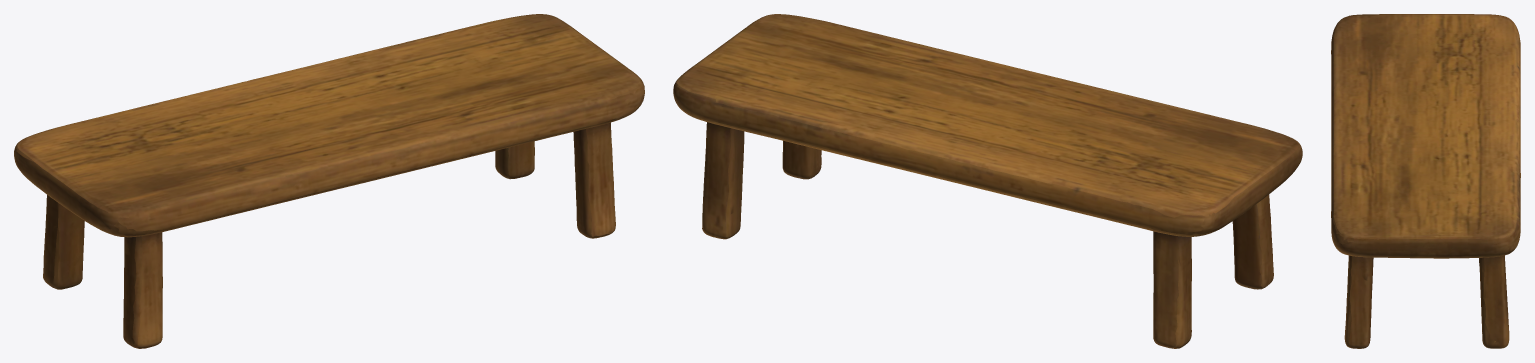
The model's file is S0-07_elm_bench_A.glb.
The picture shows the model from 3 angles, left to right: view 1: azimuth 30°, elevation 25°; view 2: azimuth 150°, elevation 25°; view 3: azimuth 270°, elevation 25°; orthographic projection. The views are drawn at different scales.
Parts seen in each view (by area): view 1: geometry_0; view 2: geometry_0; view 3: geometry_0.
Part boxes in pixels (x1=…): geometry_0: x1=14, y1=14, x2=644, y2=348; geometry_0: x1=673, y1=14, x2=1302, y2=348; geometry_0: x1=1331, y1=14, x2=1520, y2=348.
Bounding box in the file's own units: 1.2 × 0.3121 × 0.4253.
Materials: 1 (1 with a texture image).
